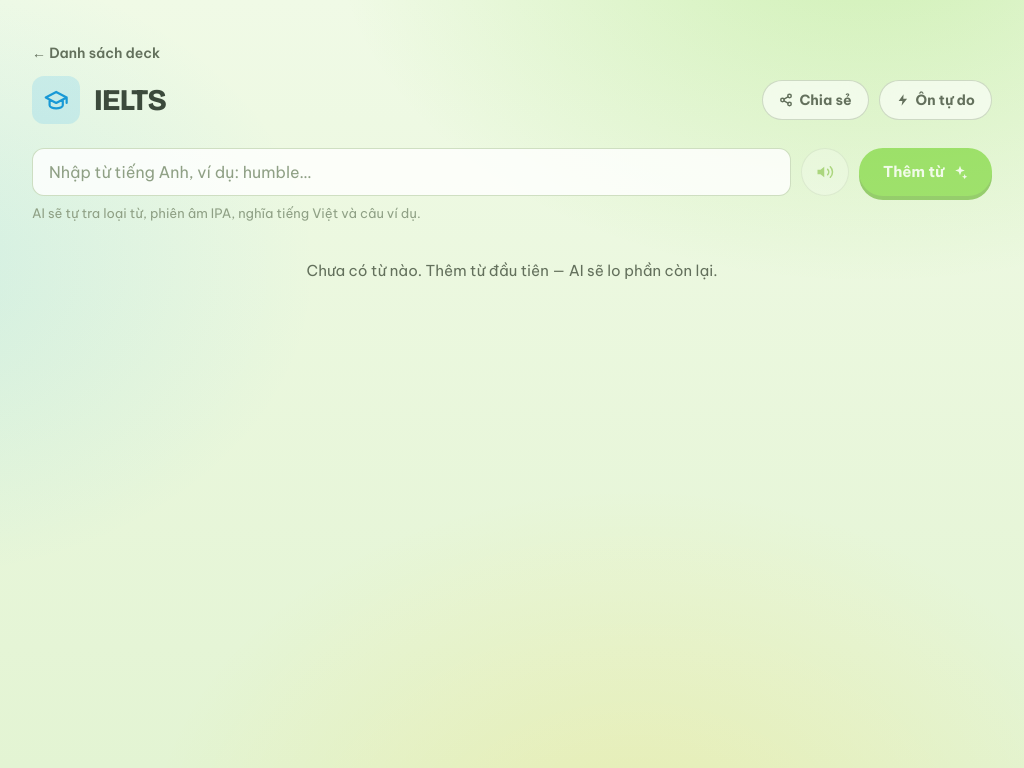
adds a word and shows it as pending after refetch
The image size is (1024, 768).
Expected: the text "Chưa có từ nào. Thêm từ đầu tiên — AI sẽ lo phần còn lại." is shown, [306,260,718,280]
Type "serendipity" into the field named "Từ mới".
click(412, 172); type("serendipity")  # box [32,148,791,196]
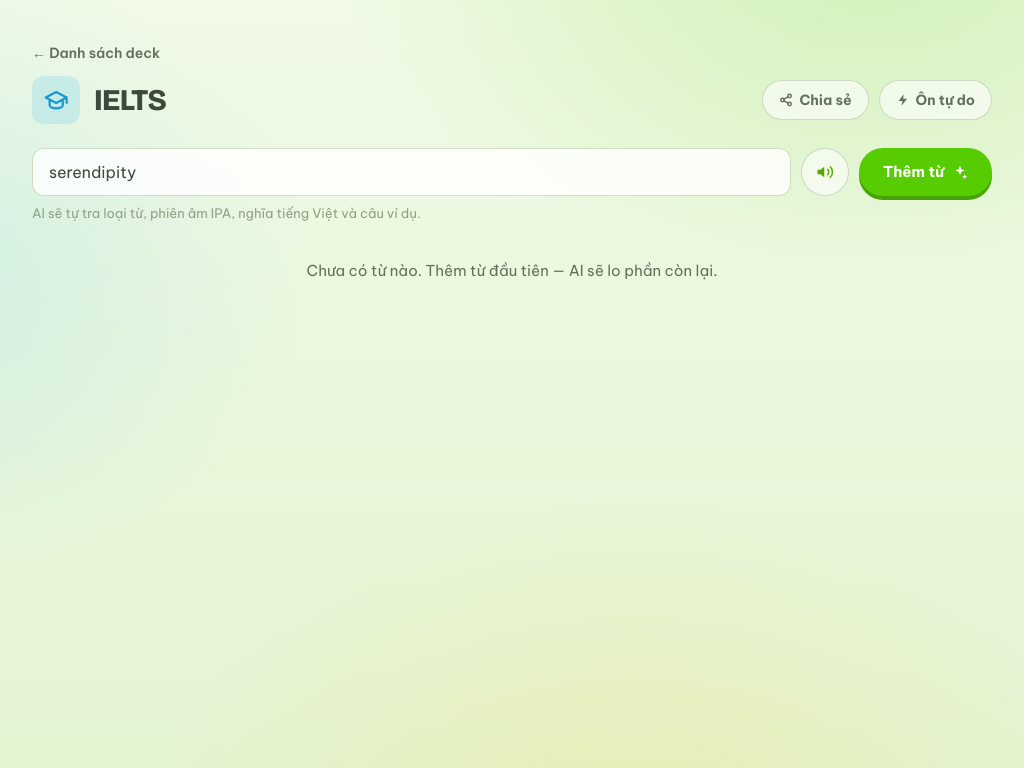
Click the button "Thêm từ".
click(926, 172)  # box [859,148,992,196]
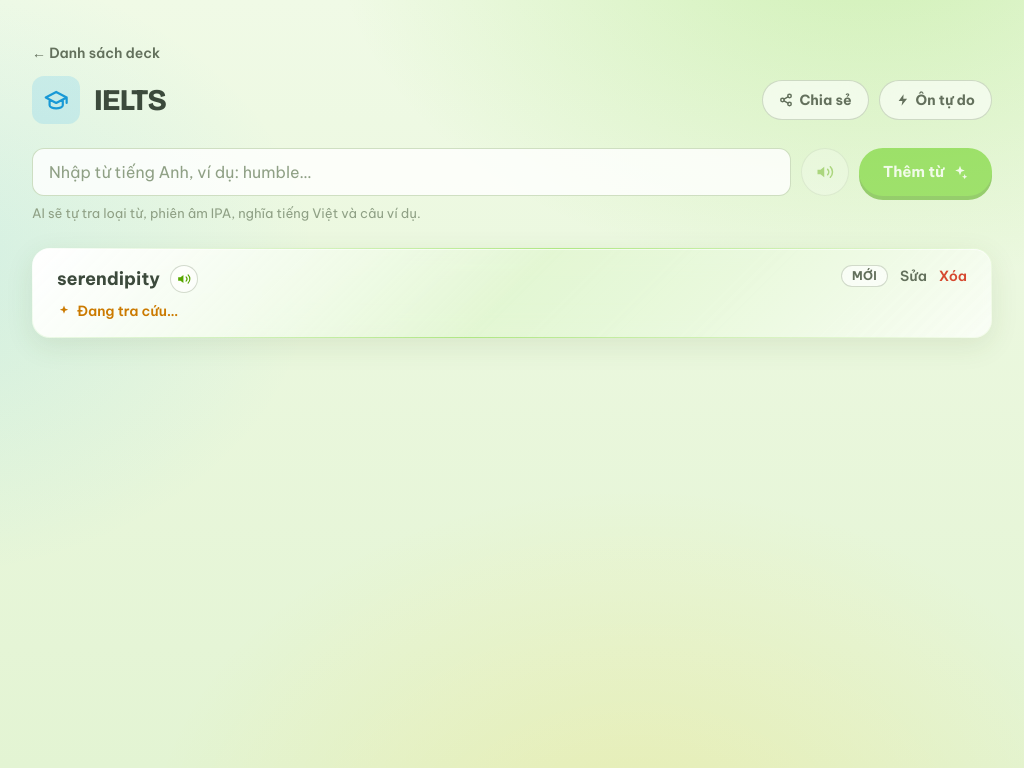
Expected: the text "serendipity" is shown, [57,264,160,292]
Expected: the text "Đang tra cứu…" is shown, [57,300,198,320]
